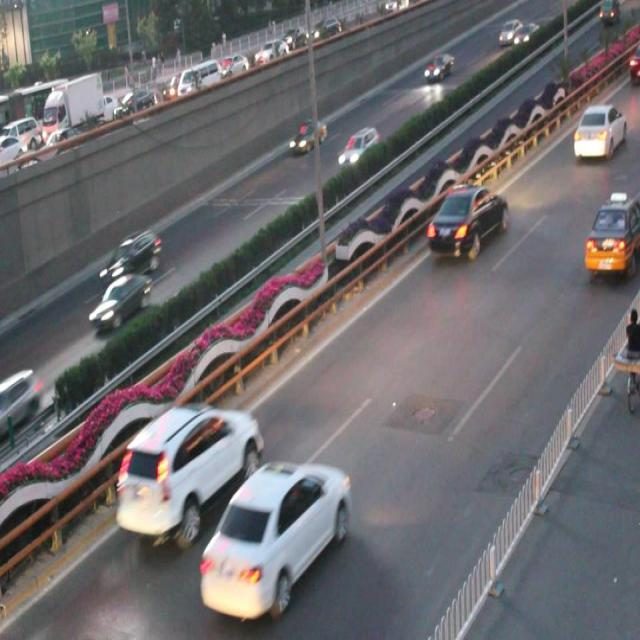car: (199, 459, 351, 615), (117, 400, 261, 537), (427, 182, 505, 257), (582, 195, 640, 277), (87, 273, 152, 328), (99, 229, 162, 279), (571, 107, 623, 160), (335, 126, 379, 167), (288, 118, 327, 157), (421, 50, 454, 80)
